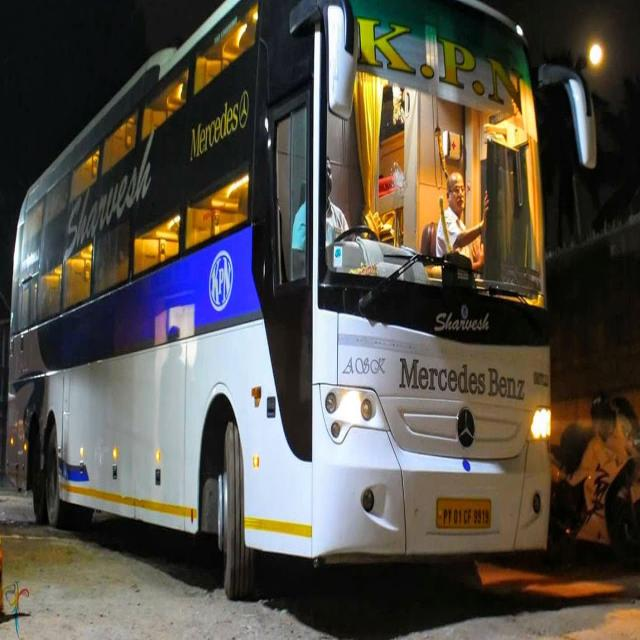bus: (6, 0, 596, 599)
